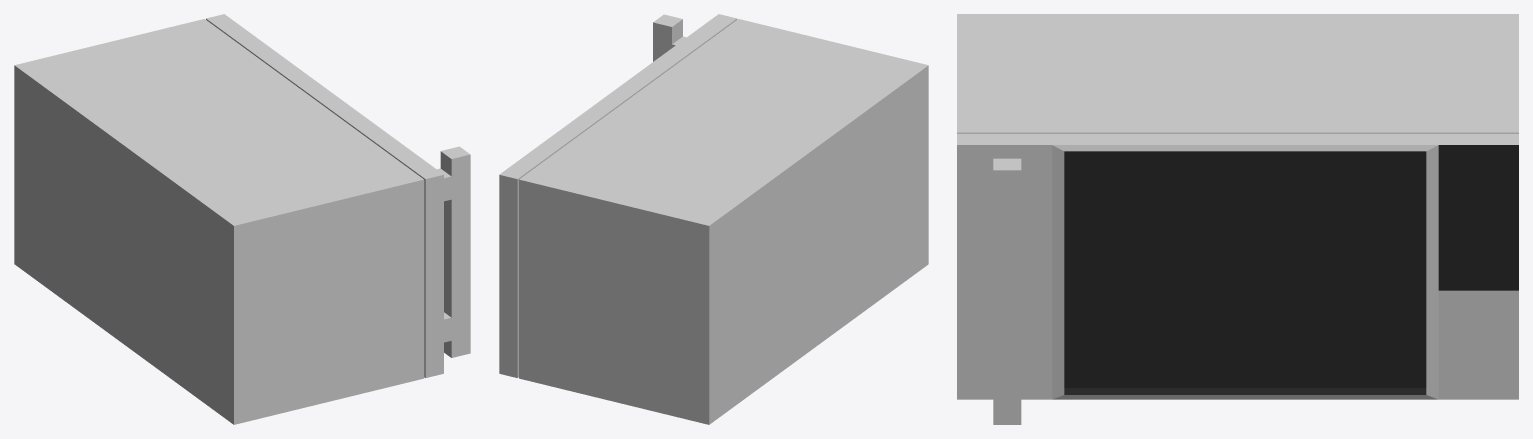
Rendered from Microwave.fbx.
The picture shows the model from 3 angles, left to right: view 1: azimuth 30°, elevation 25°; view 2: azimuth 150°, elevation 25°; view 3: azimuth 270°, elevation 25°; orthographic projection. The views are drawn at different scales.
Visible parts, largest first — view 1: Microwave; view 2: Microwave; view 3: Microwave.
Part boxes in pixels (x1,y1,x2,y2): Microwave: [14, 14, 470, 424]; Microwave: [499, 14, 928, 424]; Microwave: [957, 14, 1518, 424].
Bounding box in the file's own units: 264 × 200 × 400.
2 materials, 1 textured.
